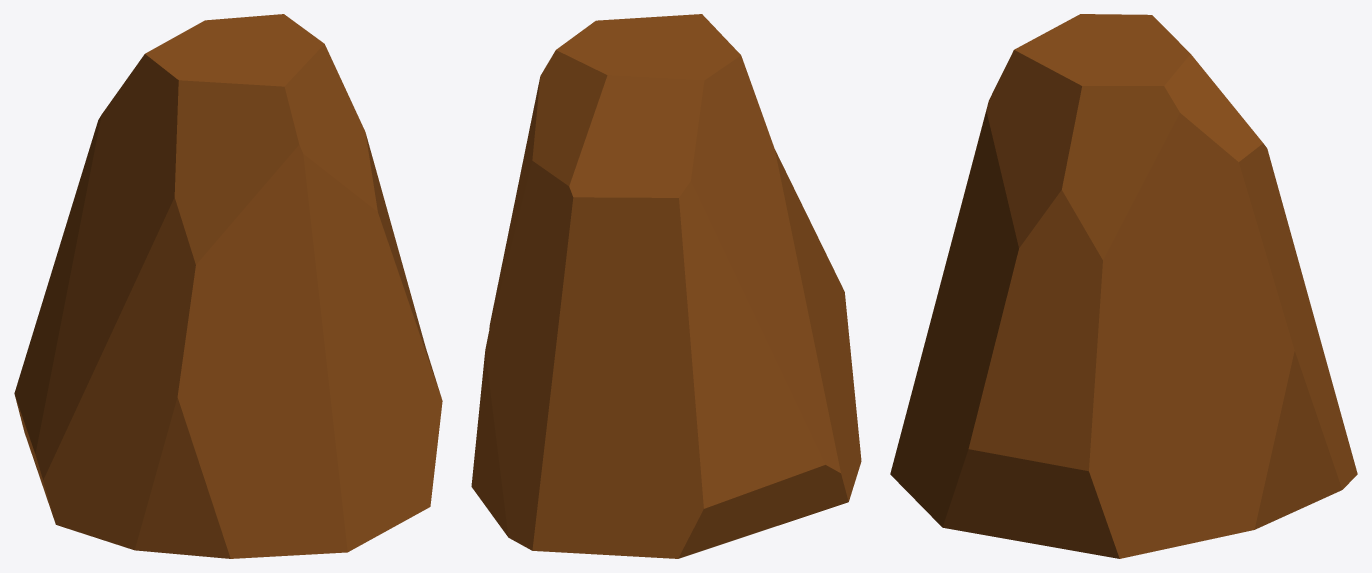
Rendered from HardRock_52.fbx.
The picture shows the model from 3 angles, left to right: view 1: azimuth 30°, elevation 25°; view 2: azimuth 150°, elevation 25°; view 3: azimuth 270°, elevation 25°; orthographic projection. The views are drawn at different scales.
Parts seen in each view (by area): view 1: HardRock_52; view 2: HardRock_52; view 3: HardRock_52.
Part boxes in pixels (x1,y1,x2,y2): HardRock_52: [14, 14, 442, 558]; HardRock_52: [471, 14, 861, 558]; HardRock_52: [890, 14, 1357, 558].
Size of the model in its own units: 85.9 by 93.48 by 93.48.
